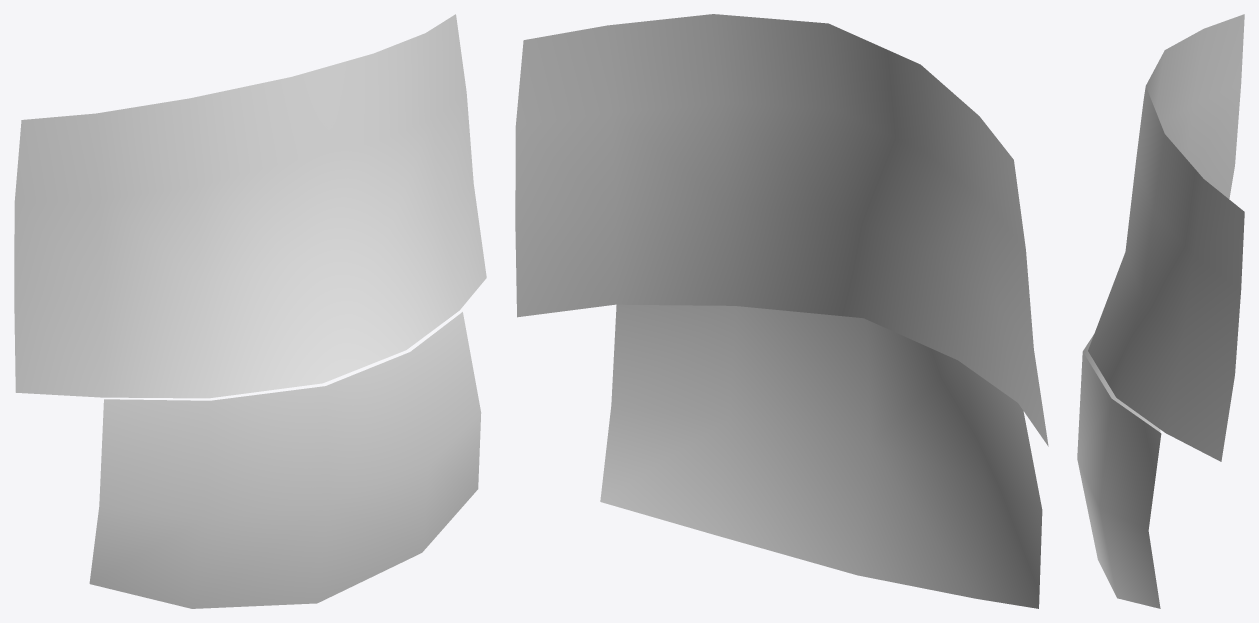
The model's file is Coco_CardsSHOWCASE.fbx.
The picture shows the model from 3 angles, left to right: view 1: azimuth 30°, elevation 25°; view 2: azimuth 150°, elevation 25°; view 3: azimuth 270°, elevation 25°; orthographic projection. The views are drawn at different scales.
Visible parts, largest first — view 1: Coco_Cards_SHOWCASE; view 2: Coco_Cards_SHOWCASE; view 3: Coco_Cards_SHOWCASE.
Boxes of the visible parts, x1,y1,x2,y2 form: Coco_Cards_SHOWCASE: [14, 14, 486, 608]; Coco_Cards_SHOWCASE: [515, 14, 1048, 608]; Coco_Cards_SHOWCASE: [1077, 14, 1244, 608].
Bounding box in the file's own units: 9.22 × 9.5 × 3.04.
Materials: 2 (2 with a texture image).
